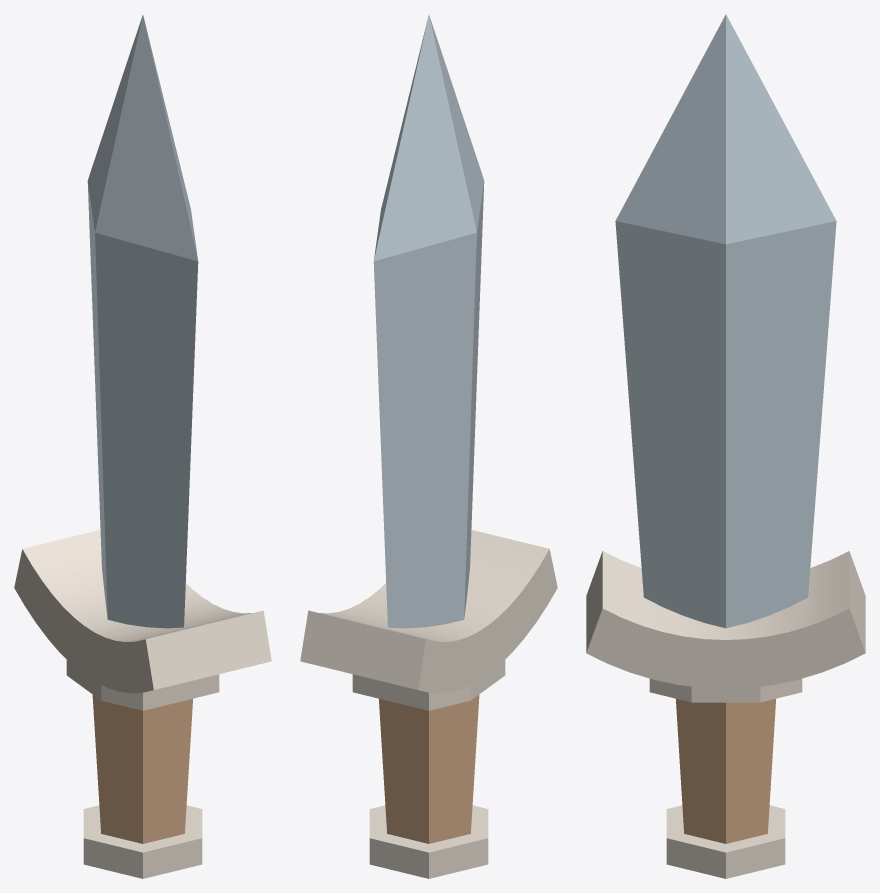
The model's file is sword.glb.
3 views of the same model, side by side, from view 1: azimuth 30°, elevation 25°; view 2: azimuth 150°, elevation 25°; view 3: azimuth 270°, elevation 25° (orthographic).
Visible parts, largest first — view 1: sword; view 2: sword; view 3: sword.
Boxes of the visible parts, bbox=[...] form: sword: bbox=[14, 15, 271, 878]; sword: bbox=[300, 15, 557, 878]; sword: bbox=[586, 14, 865, 878].
Size of the model in its own units: 0.0795 by 0.5346 by 0.1619.
